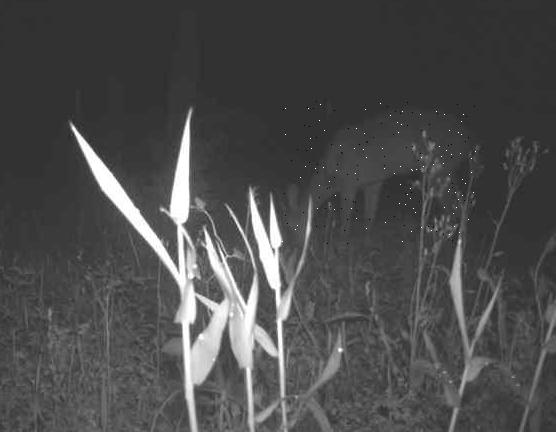Deer: (282, 101, 476, 245)
